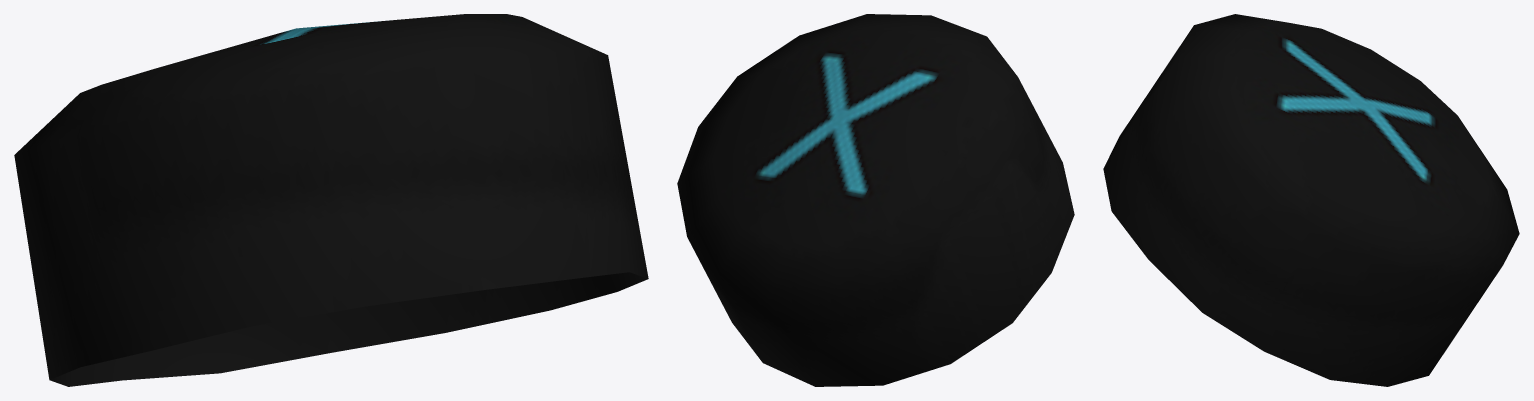
The model's file is YVR_d1_left_Xbutton.obj.
3 renders of one model, left to right at view 1: azimuth 30°, elevation 25°; view 2: azimuth 150°, elevation 25°; view 3: azimuth 270°, elevation 25°, orthographic. The views are drawn at different scales.
Visible parts, largest first — view 1: default; view 2: default; view 3: default.
Boxes of the visible parts, x1=… form: default: x1=14, y1=14, x2=648, y2=386; default: x1=677, y1=14, x2=1074, y2=386; default: x1=1103, y1=14, x2=1519, y2=386.
Size of the model in its own units: 0.0098 by 0.008 by 0.0101.
1 material, 1 textured.
